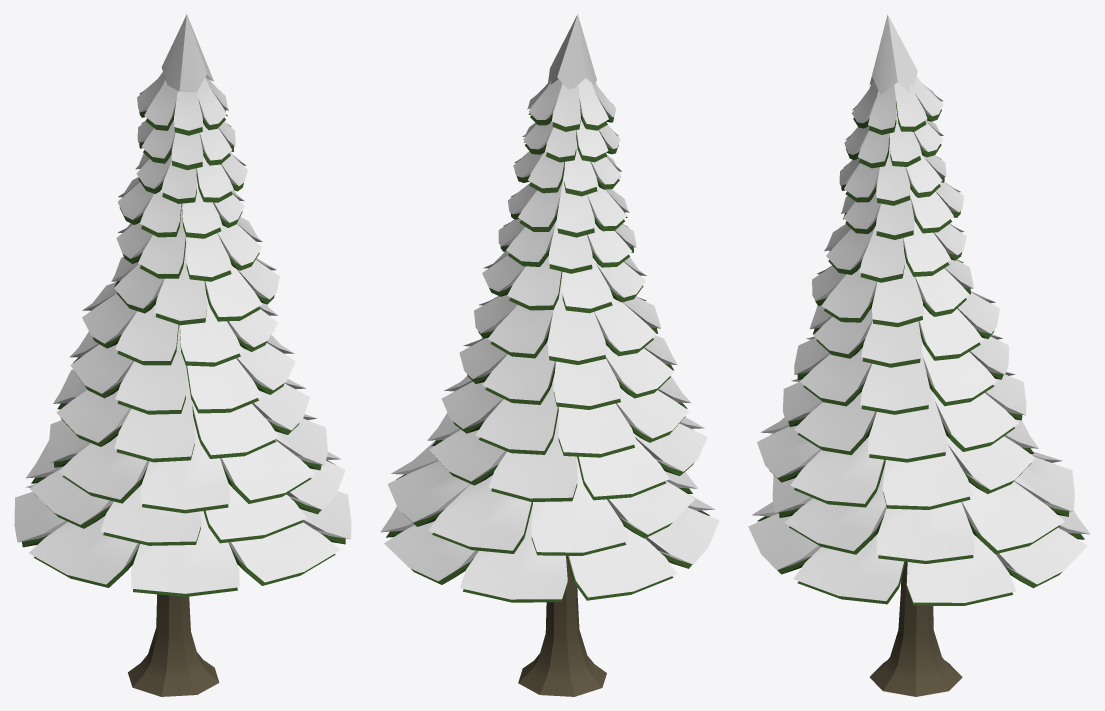
Rendered from blender env assets tree 6.fbx.
3 views of the same model, side by side, from view 1: azimuth 30°, elevation 25°; view 2: azimuth 150°, elevation 25°; view 3: azimuth 270°, elevation 25° (orthographic). The views are drawn at different scales.
Parts seen in each view (by area): view 1: Cylinder.050; view 2: Cylinder.050; view 3: Cylinder.050.
Boxes of the visible parts, <box> form: Cylinder.050: <box>14,14,351,696</box>; Cylinder.050: <box>380,14,719,696</box>; Cylinder.050: <box>748,14,1090,696</box>.
Bounding box in the file's own units: 126 × 270 × 126.
